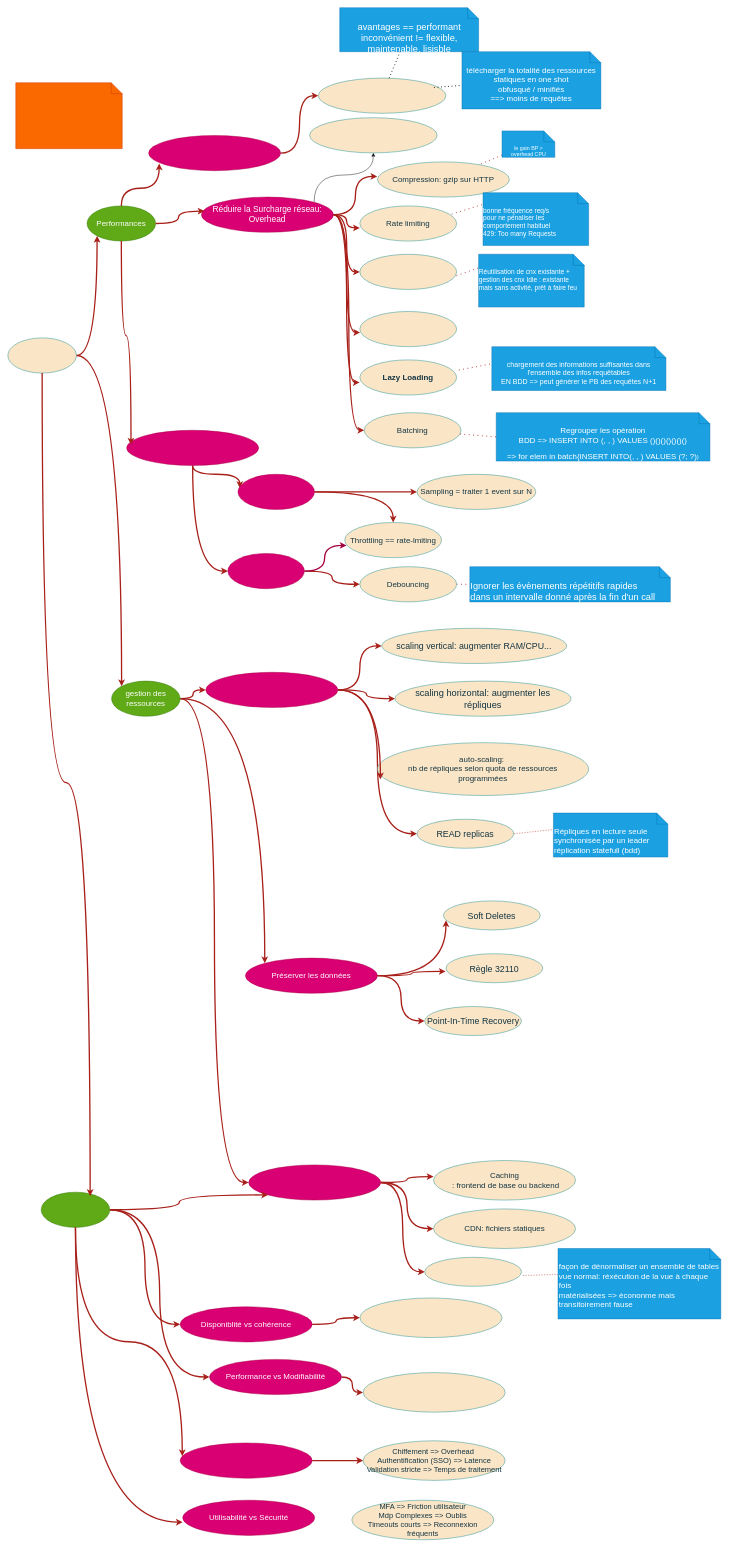
The diagram is 729 pixels wide and 1547 high, and some of its shapes have lost their labels. Each missing label, with the box of its shape:
Arbitrages: (41, 1192, 110, 1227)
augmenter les ressources: (205, 672, 338, 707)
Code optimisé => acomplexe / couplé Abstraction => Overhead, indirections: (363, 1372, 505, 1412)
frontend: (227, 553, 304, 589)
limiter les évènements: (126, 430, 259, 465)
Observabliité: (238, 474, 315, 509)
on peut associer des tactiques peut en faire des patterns d'architecture: (15, 82, 122, 149)
Optimiser le code (algos): (318, 78, 446, 113)
Pagination: (359, 311, 457, 347)
Performance vs Sécurité: (180, 1443, 312, 1478)
Pooling: (359, 254, 457, 289)
préserver les ressource VS la vérité: (248, 1164, 381, 1200)
Réduire la demande de ressources: (148, 135, 281, 171)
statification des ressources statiques: (309, 117, 437, 153)
Tactiques: (7, 337, 76, 373)
Théorème CAP: (359, 1298, 502, 1338)
vues matérialisées: (424, 1257, 521, 1286)
